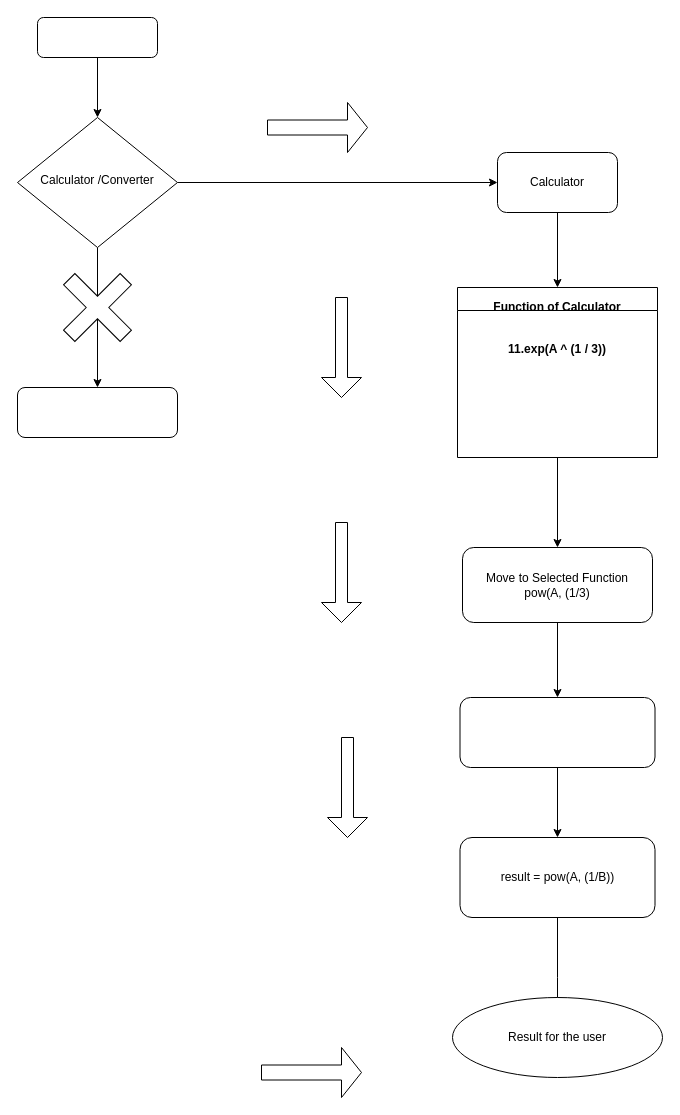
This 680x1115 diagram has some shape labels left out. The box of each missing label's shape, as (x1, y1, x2, y2) in pixels:
Converter: (16, 386, 178, 438)
Enter the values for A and B: (459, 696, 655, 768)
User interface: (36, 16, 158, 58)
